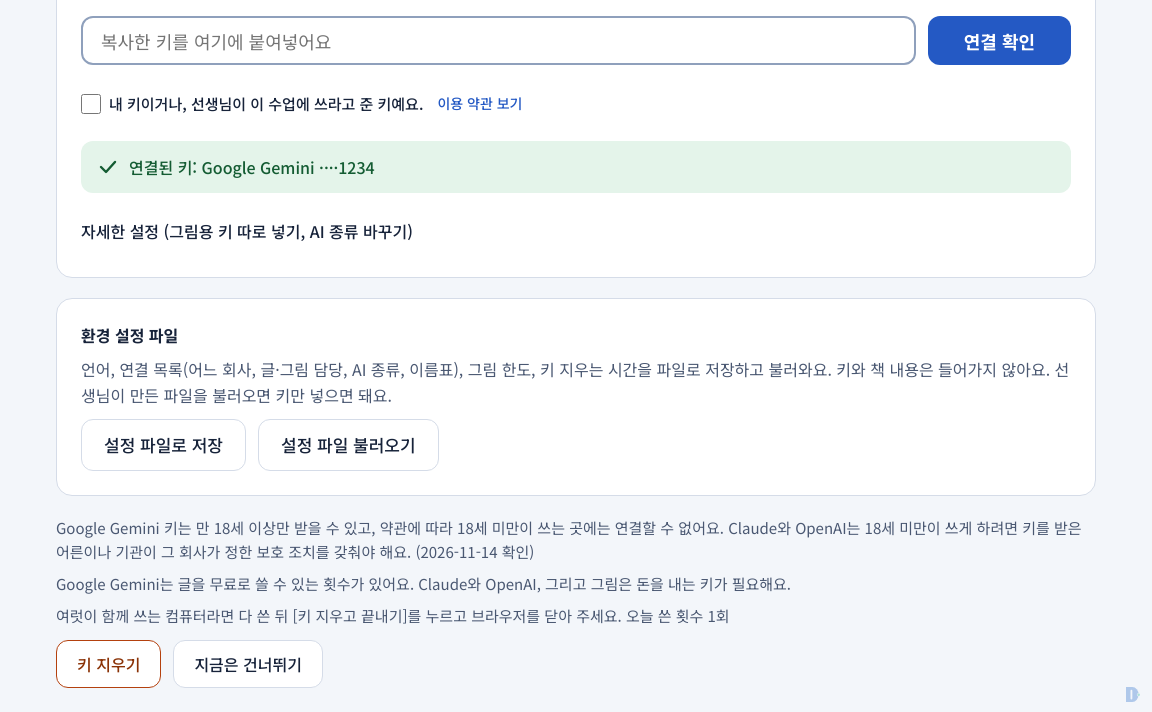
Test: ConnectScreen › clears the keys and shows a notice
(page scrolled)
Click the button "키 지우기": [109, 664] box x1=56 y1=640 x2=161 y2=688
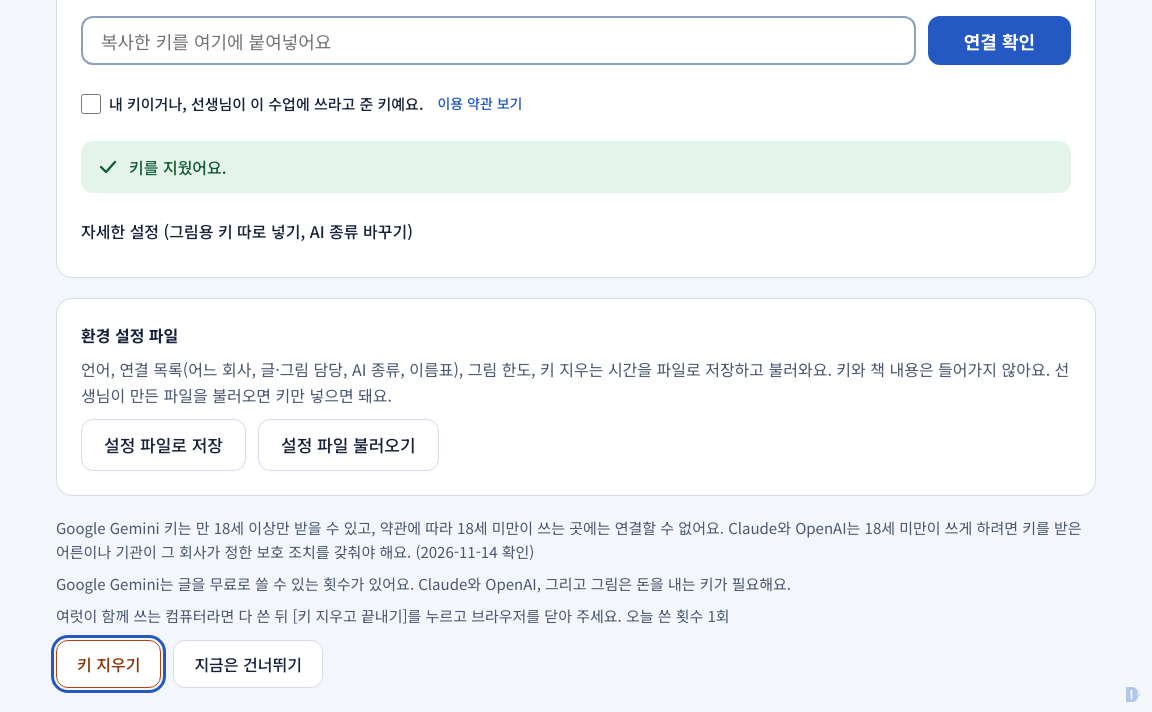
Expected: the text "키를 지웠어요." is shown, x1=129 y1=155 x2=227 y2=179
